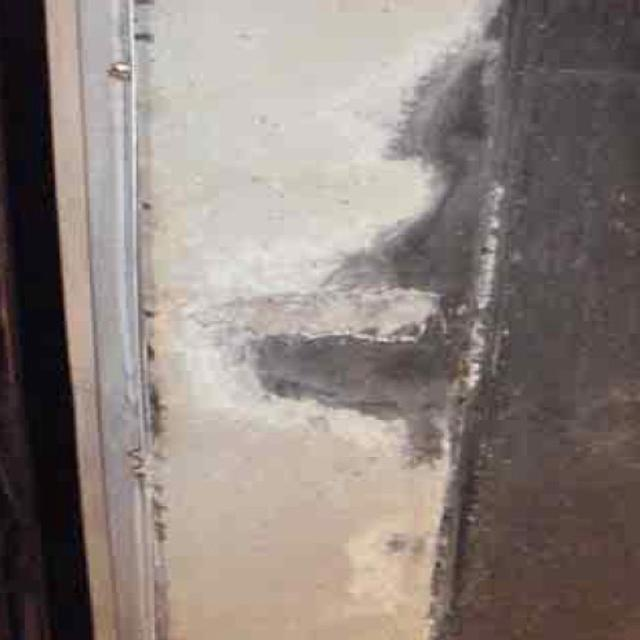spalling: (203, 263, 451, 408)
